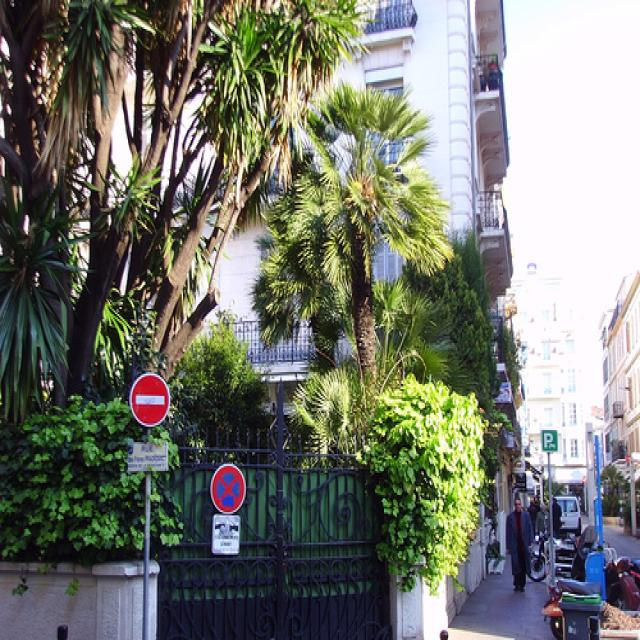motor: (530, 532, 576, 580), (604, 556, 640, 611)
